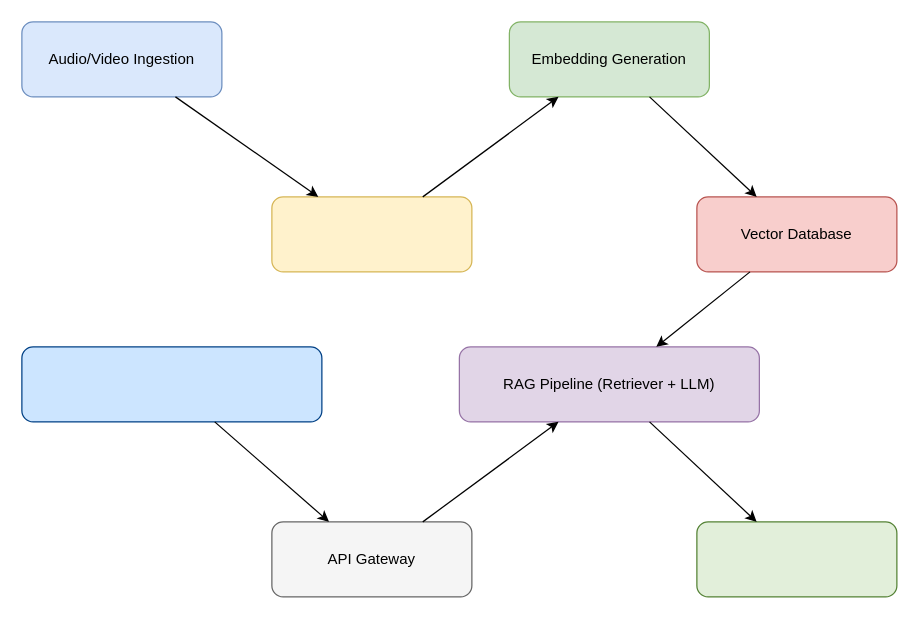
Image size: 919x619. Some labels were removed from this diagram. The box of each missing label's shape, as (x1, y1, x2, y2) in pixels:
React Frontend for Insights: (21, 346, 322, 422)
Speech-to-Text: (271, 196, 472, 272)
Storage: (696, 521, 897, 597)
